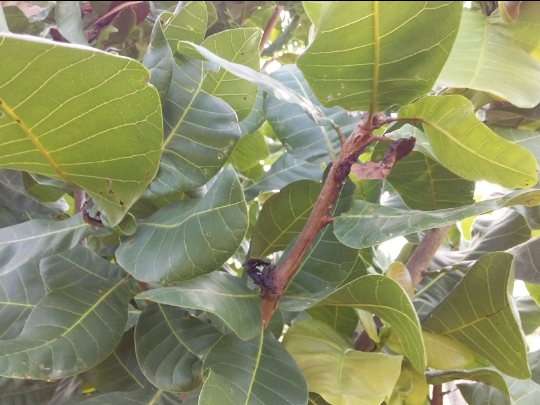Dessèchement des bourgeons: (243, 254, 275, 294)
